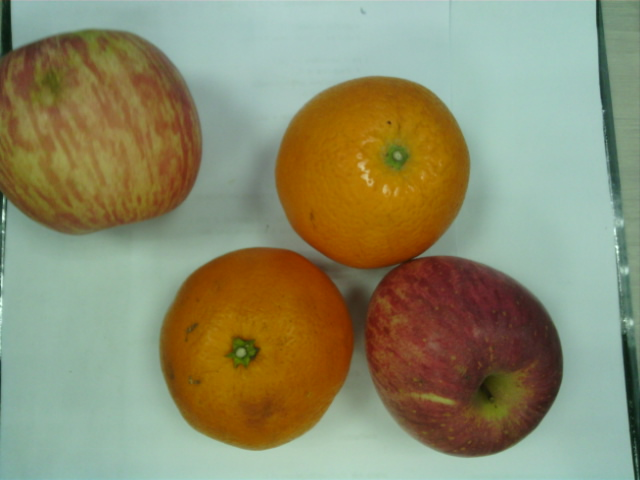normal_apple: (2, 29, 204, 236), (364, 256, 565, 457)
normal_orange: (161, 249, 354, 450), (275, 77, 471, 266)
